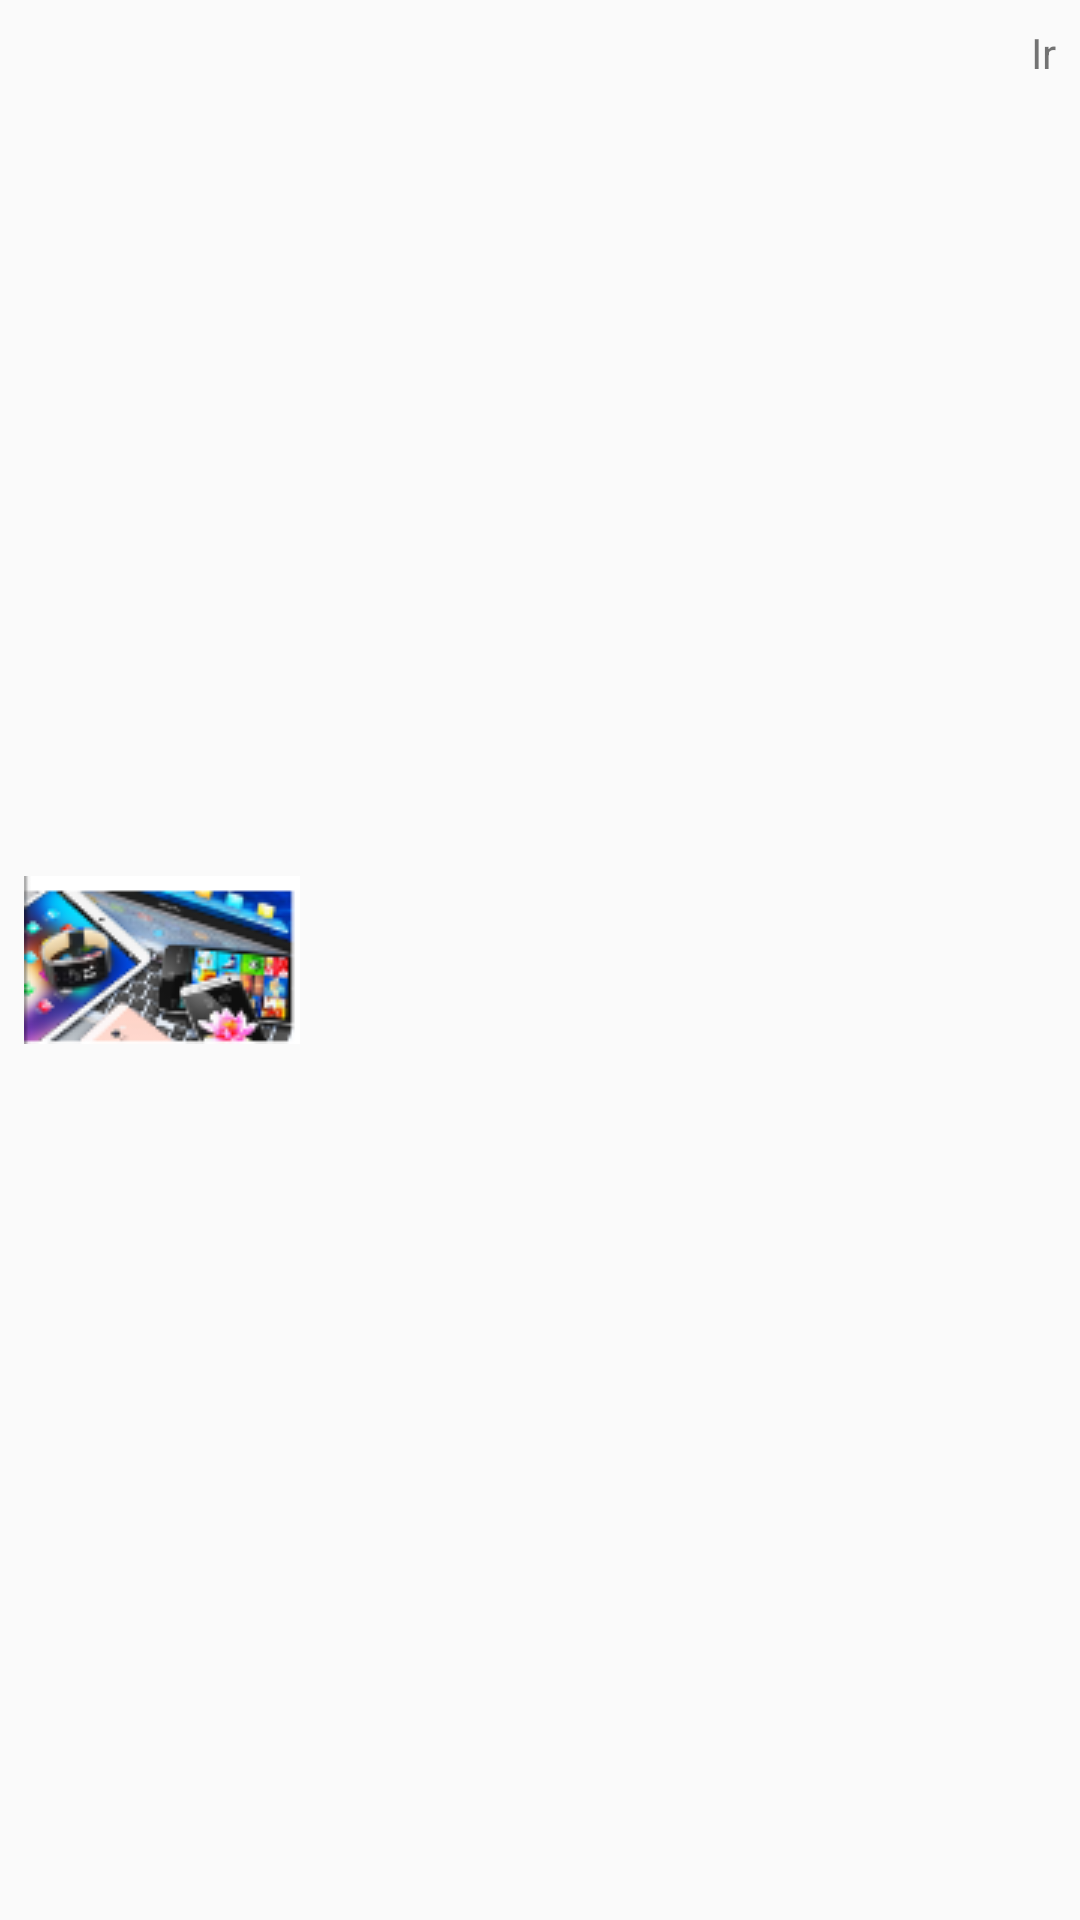

Named icons in this screenshot (1080px×1920px) and their bounding boxes, (x1, y1, x2, y2):
electronicos: (24, 876, 294, 1044)
